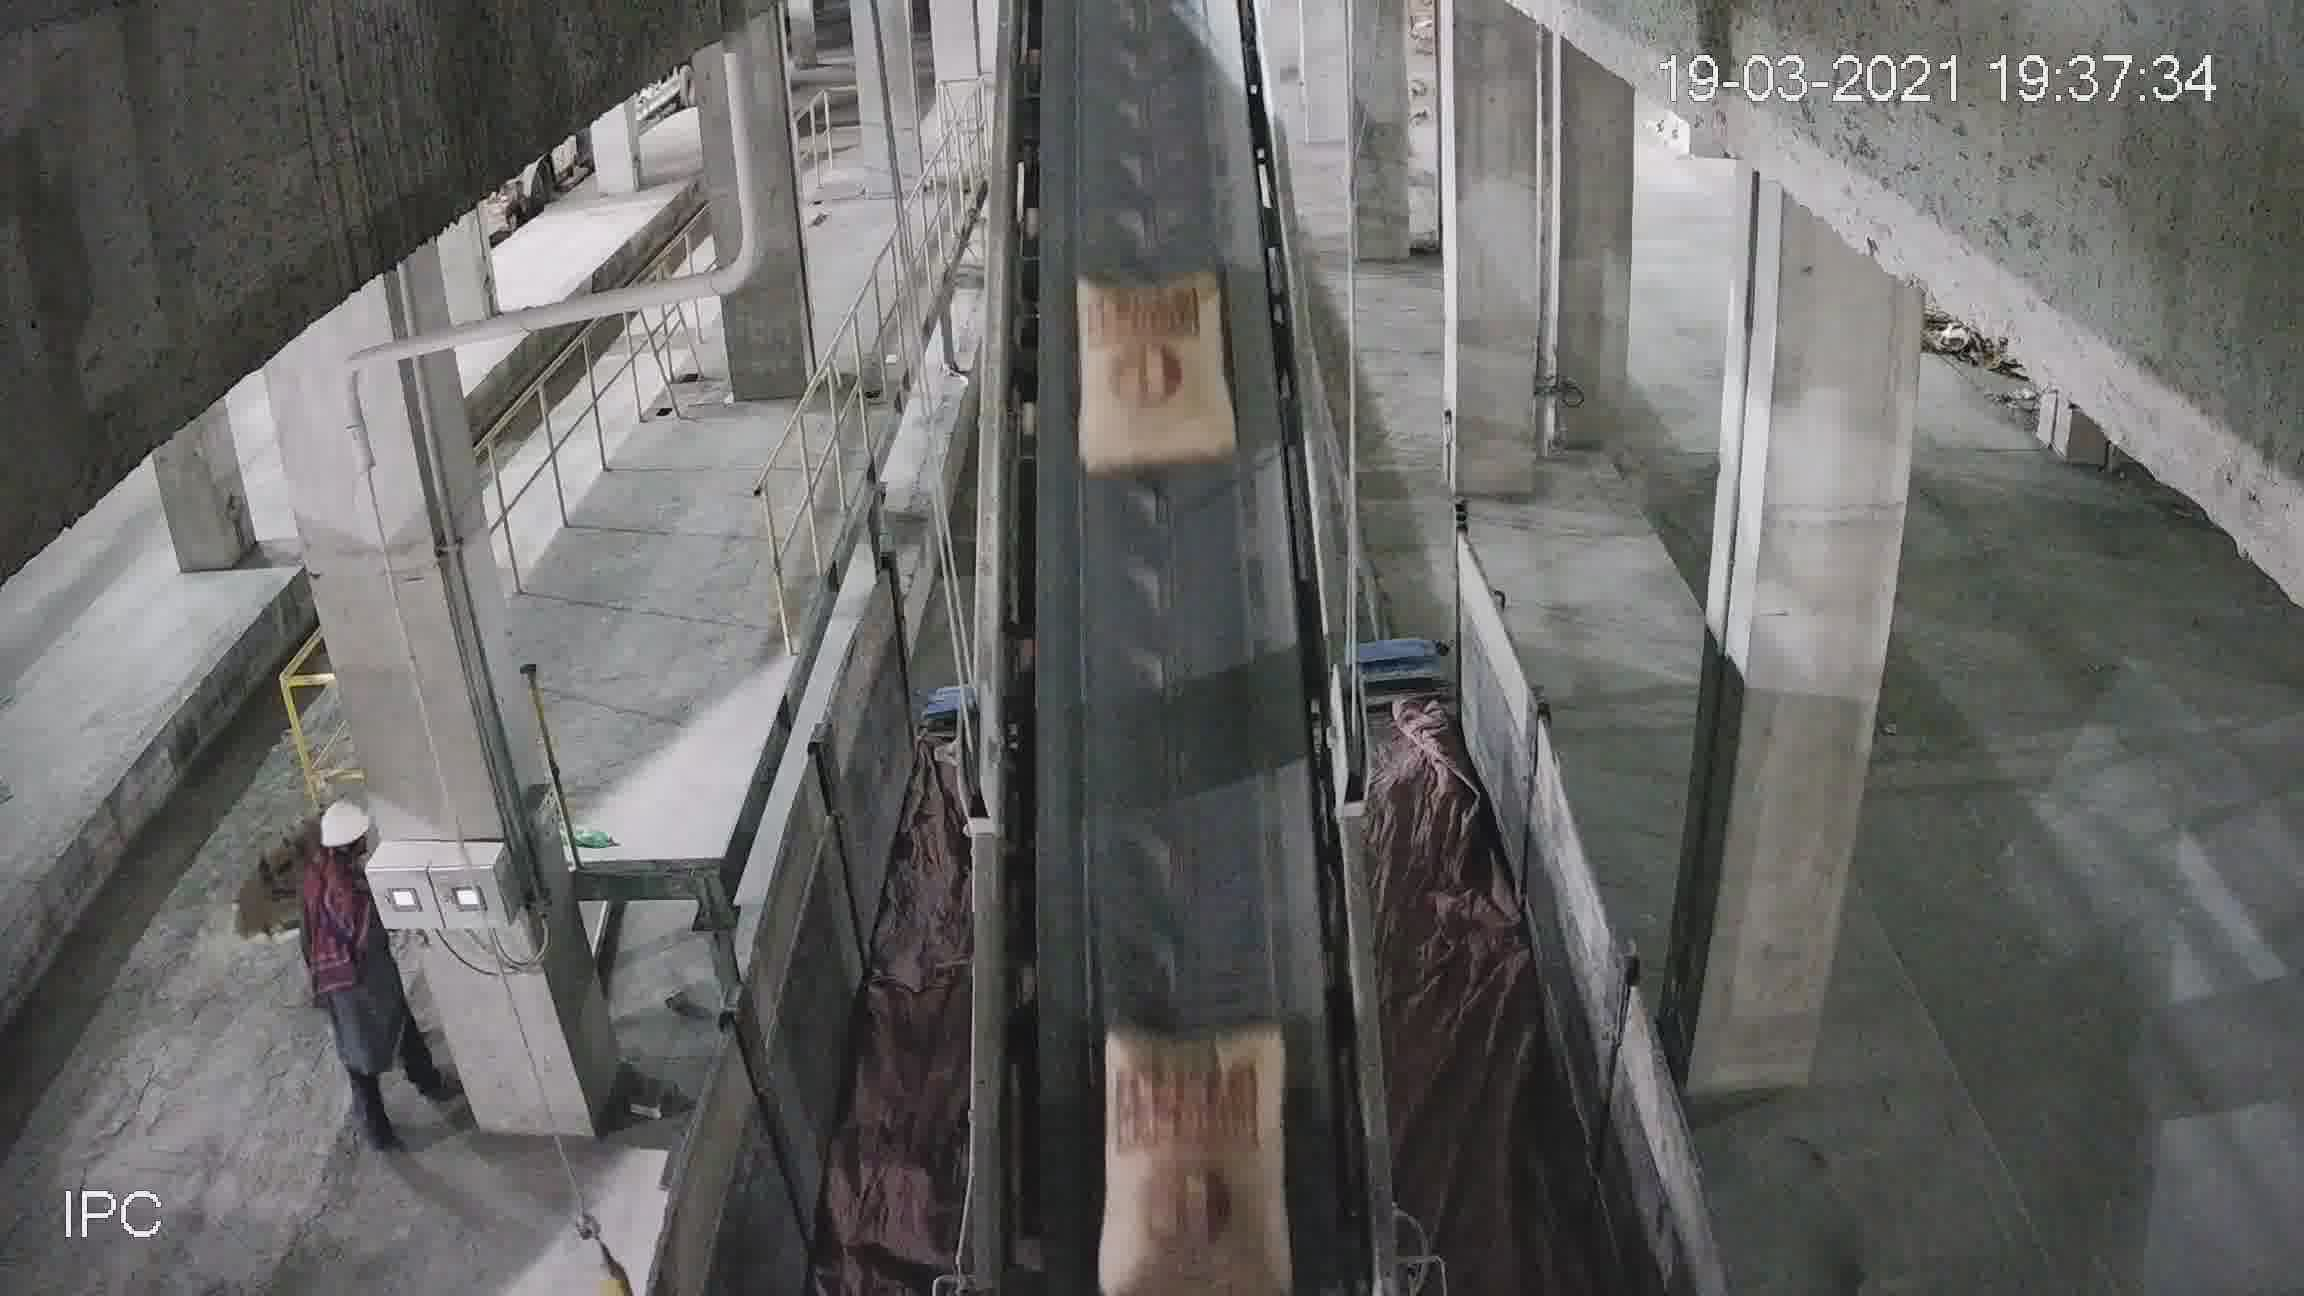bag: (1105, 1017, 1290, 1180), (1074, 282, 1233, 468)
belt: (967, 5, 1339, 1154)
